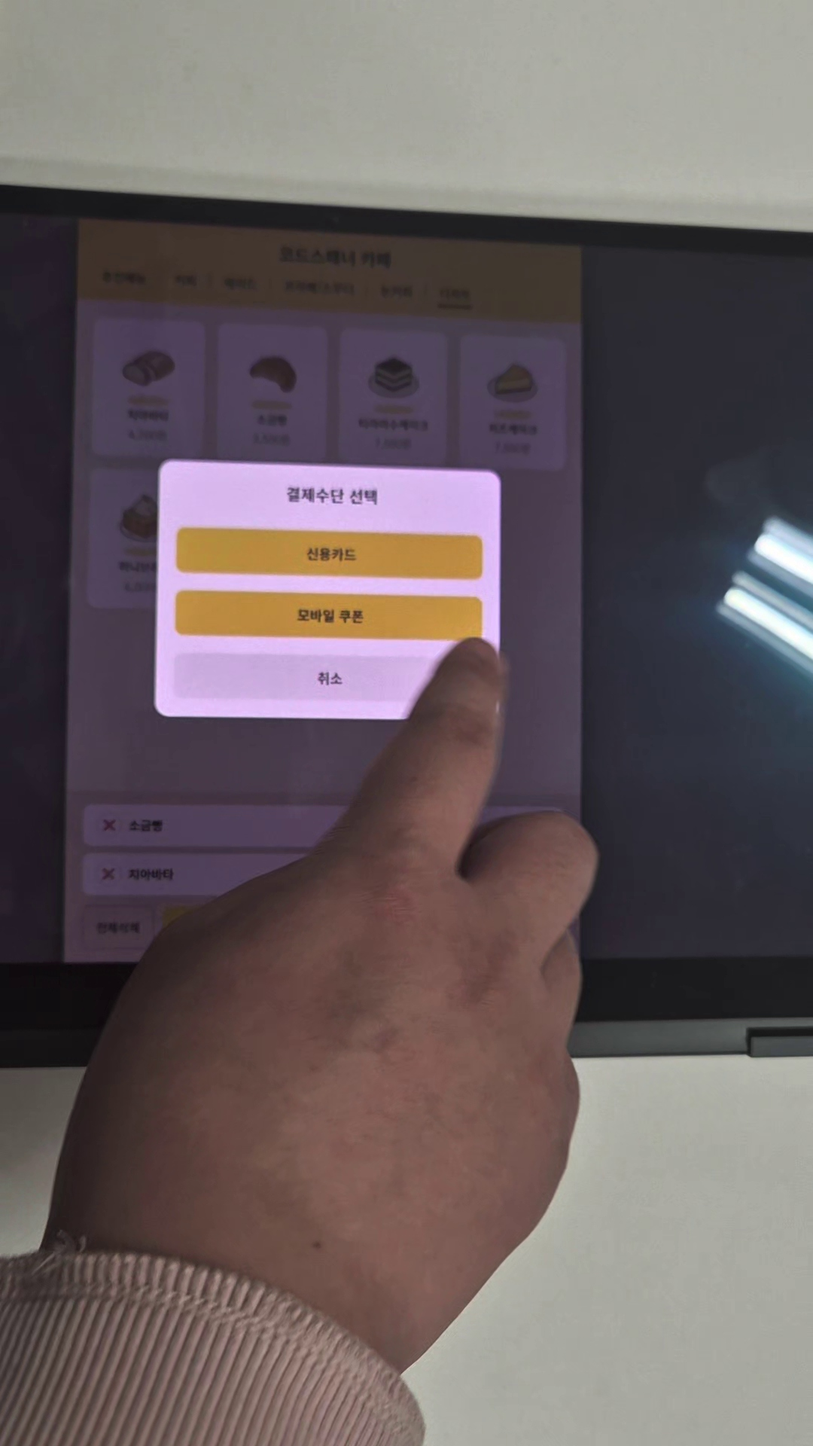action_button: (177, 656, 475, 705)
option_button: (177, 589, 482, 643), (178, 528, 485, 580)
popup_modal: (157, 461, 503, 723)
